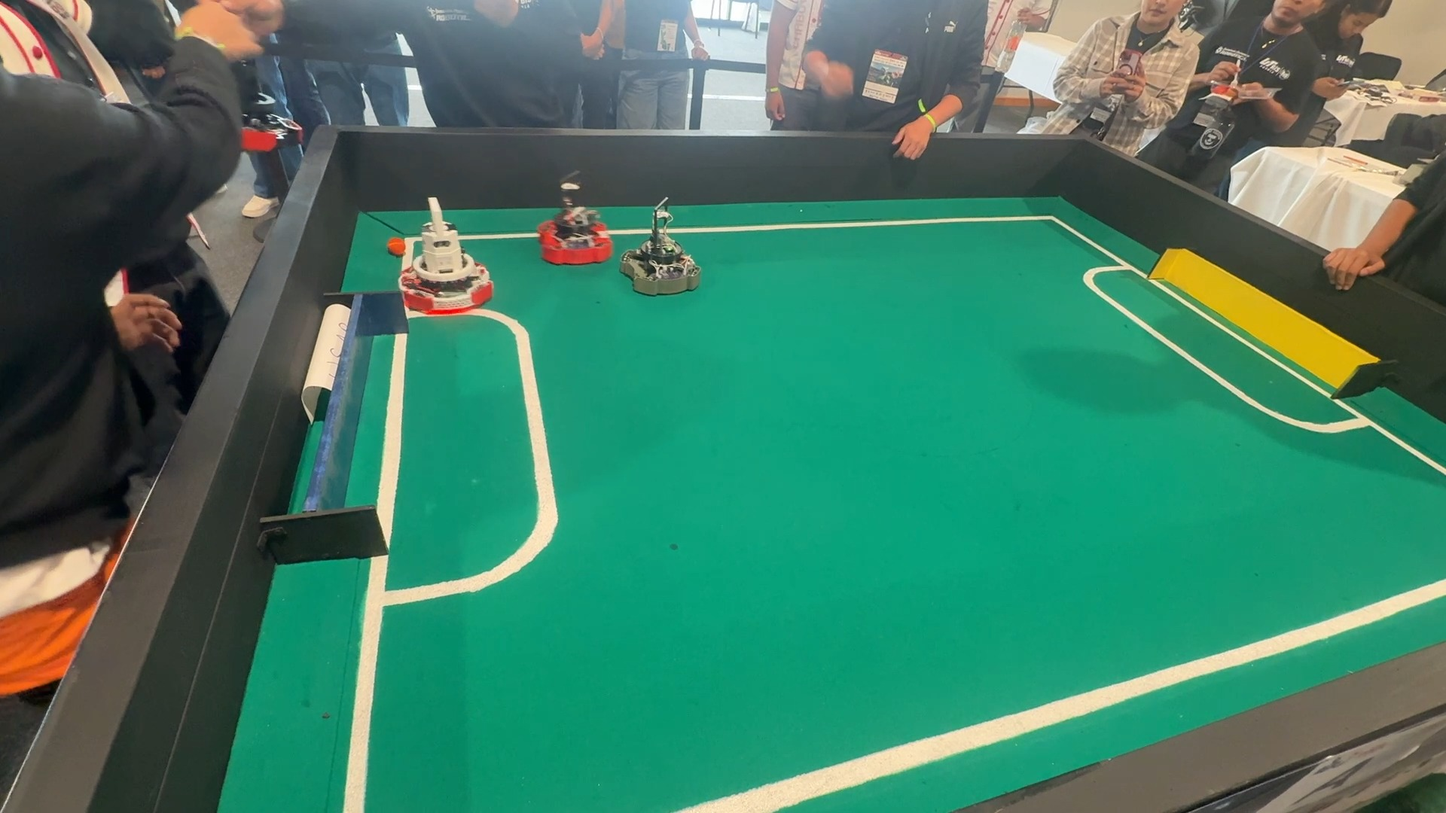Robot: (388, 201, 505, 311), (527, 175, 614, 272), (616, 219, 709, 303)
